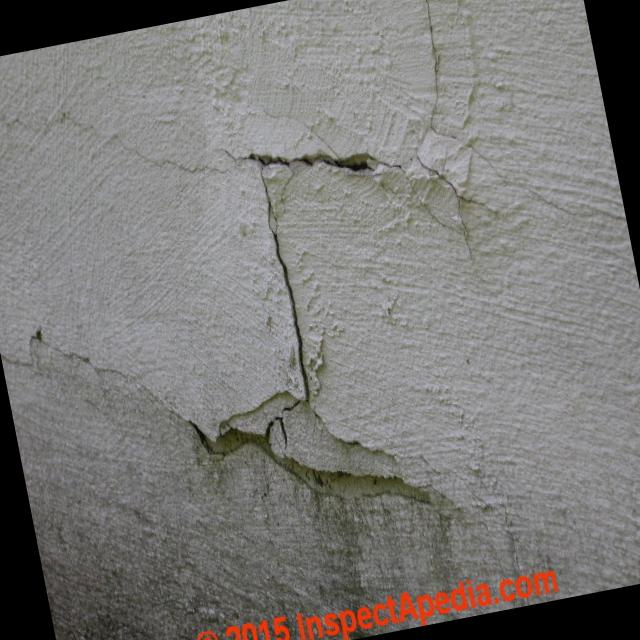crack: (182, 362, 439, 552), (375, 0, 511, 272), (0, 65, 234, 222), (0, 300, 171, 440), (251, 154, 319, 407), (244, 121, 404, 201)
